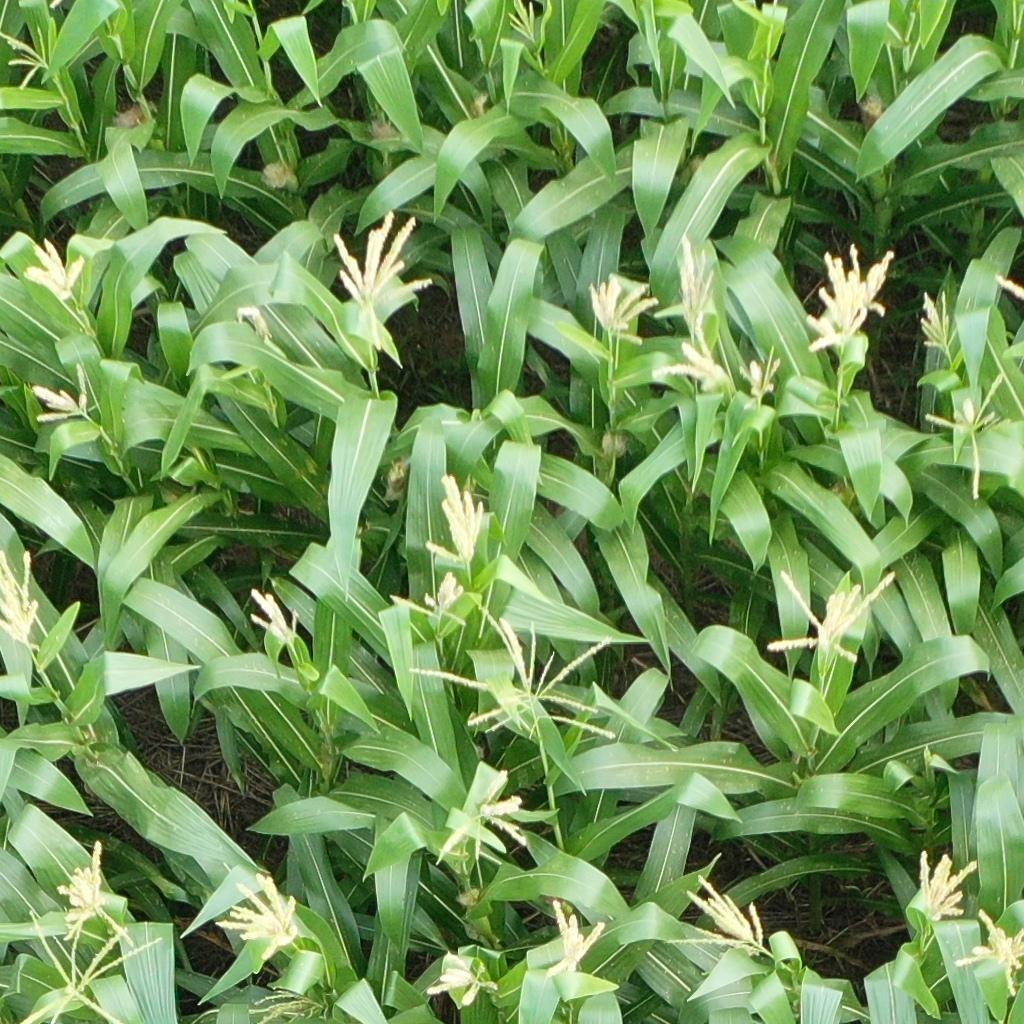Tassel: (409, 609, 622, 748), (17, 907, 163, 1024), (330, 212, 433, 352), (767, 569, 898, 665), (919, 371, 1005, 503), (804, 241, 896, 353), (429, 769, 530, 864), (662, 875, 771, 958), (54, 840, 136, 948), (214, 875, 302, 961), (954, 908, 1024, 998), (423, 475, 485, 571), (646, 324, 727, 392), (542, 896, 606, 981), (586, 276, 660, 348), (915, 852, 980, 924), (391, 568, 469, 627), (672, 232, 715, 337), (426, 953, 501, 1012), (19, 239, 87, 304), (27, 363, 92, 424), (1, 548, 41, 647), (1, 24, 51, 93), (247, 587, 304, 647), (736, 348, 785, 414), (919, 292, 963, 355), (251, 989, 324, 1024), (235, 302, 274, 342), (508, 1, 541, 42)
